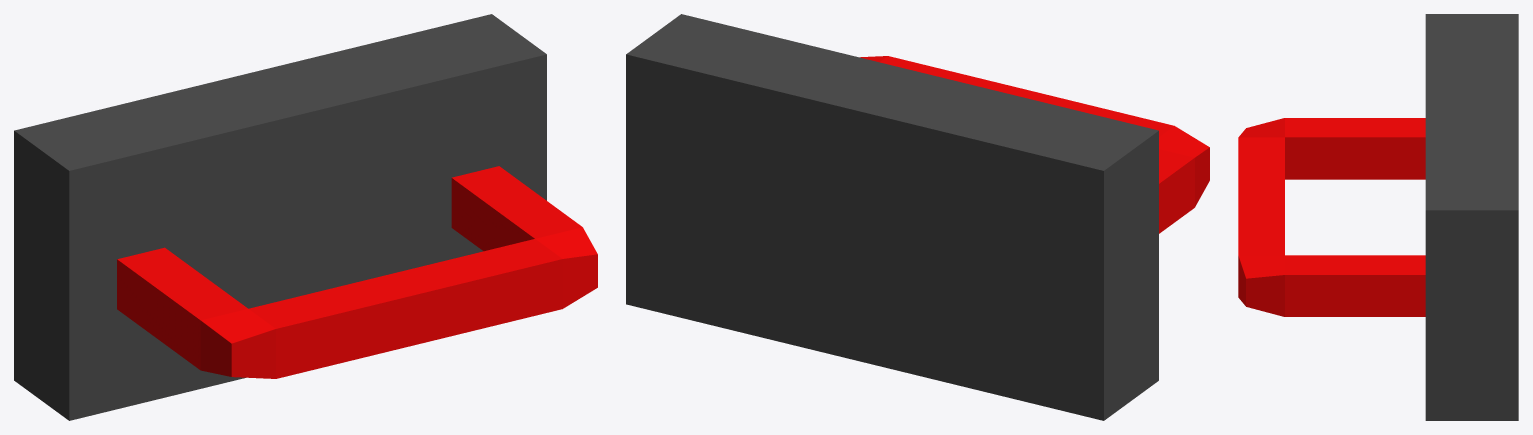
Rendered from TheOuterItem.fbx_Toggler.fbx.
The picture shows the model from 3 angles, left to right: view 1: azimuth 30°, elevation 25°; view 2: azimuth 150°, elevation 25°; view 3: azimuth 270°, elevation 25°; orthographic projection. The views are drawn at different scales.
Visible parts, largest first — view 1: Base, Handle; view 2: Base, Handle; view 3: Base, Handle.
Part boxes in pixels (box(x1,y1,x2,y2)): Base: box(14, 14, 546, 420); Handle: box(117, 166, 597, 378); Base: box(626, 14, 1158, 420); Handle: box(860, 56, 1209, 233); Base: box(1425, 14, 1518, 420); Handle: box(1238, 118, 1425, 316).
Size of the model in its own units: 100 by 50 by 60.3.
